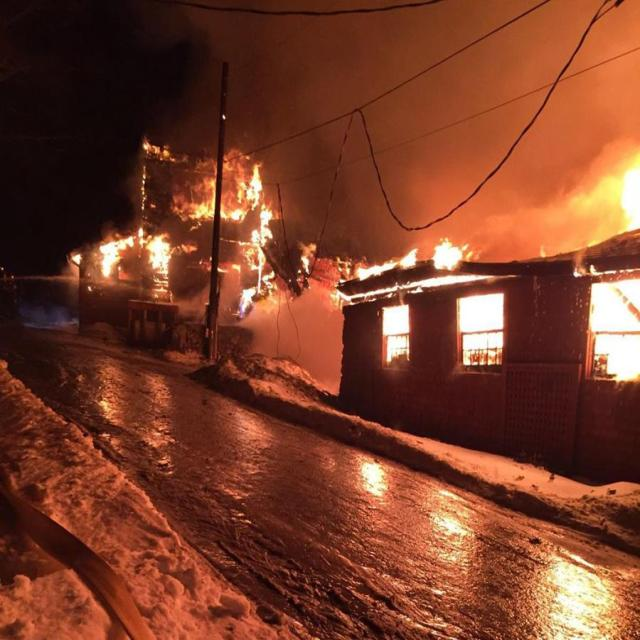Fire: (65, 124, 640, 390)
